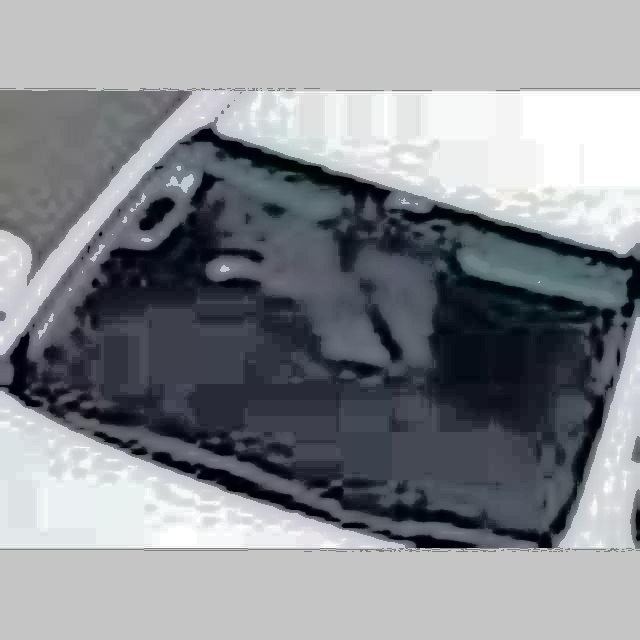pakai: (189, 152, 445, 377)
